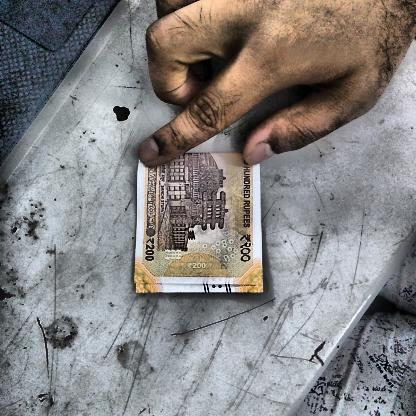Rs200: (142, 236, 159, 264)
